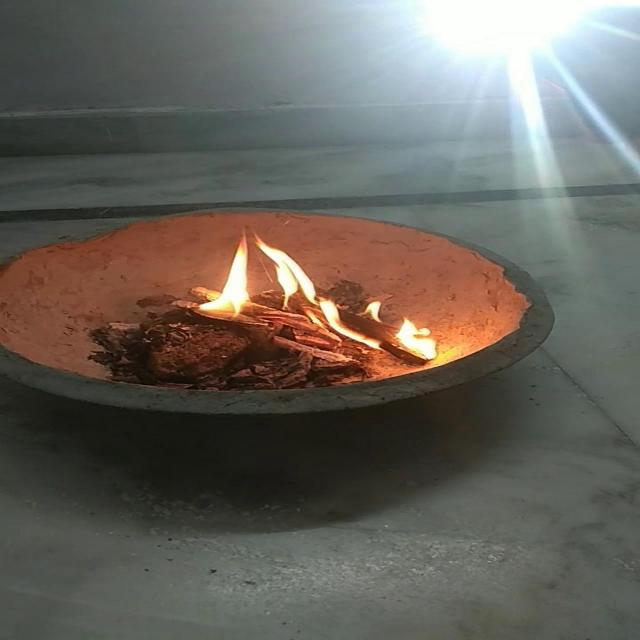fire: (168, 225, 438, 364)
